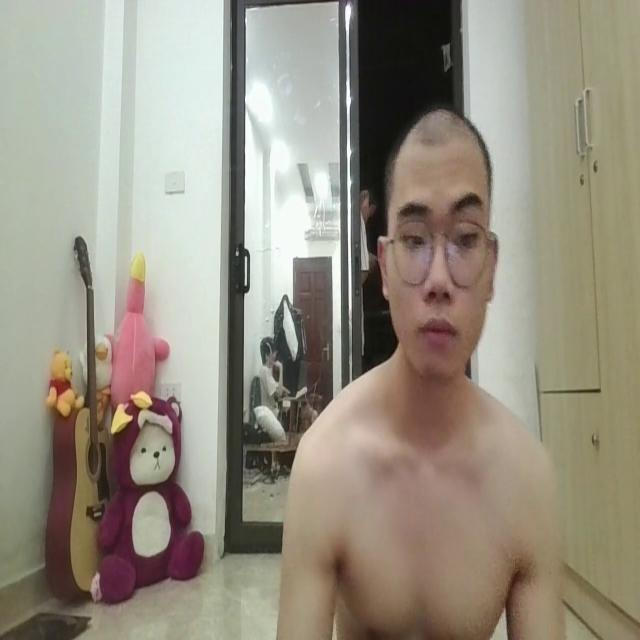extra_person: (244, 322, 322, 457), (346, 152, 382, 384)
student: (277, 92, 581, 640)
